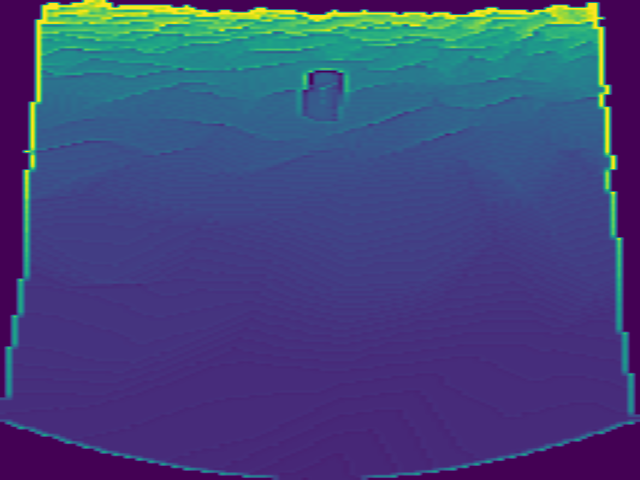car_0198: (299, 67, 347, 124)
